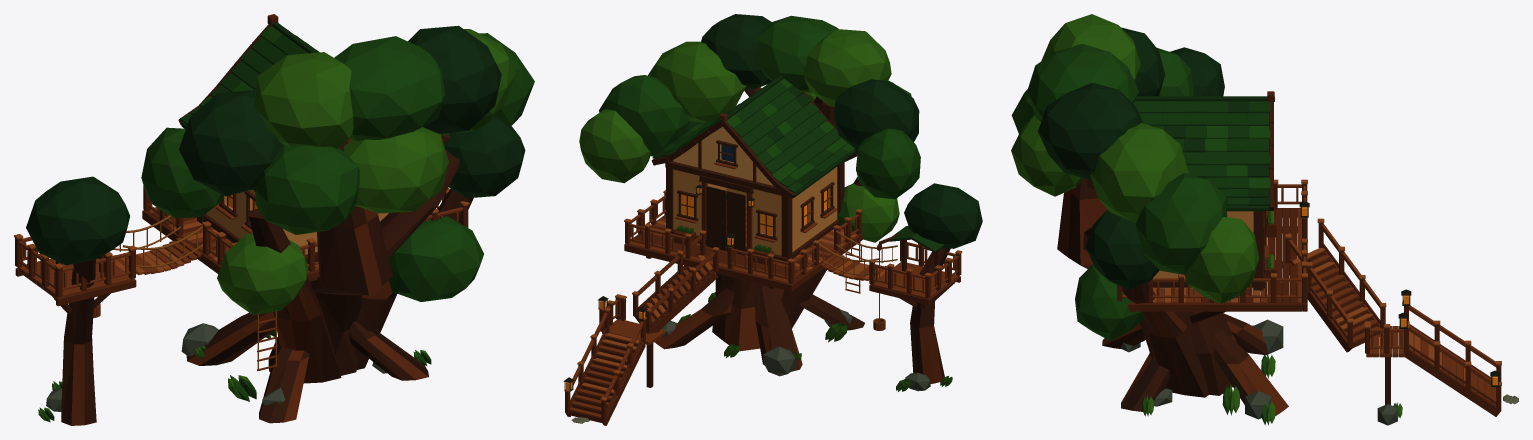
The model's file is treehouse-visual.obj.
The picture shows the model from 3 angles, left to right: view 1: azimuth 30°, elevation 25°; view 2: azimuth 150°, elevation 25°; view 3: azimuth 270°, elevation 25°; orthographic projection. The views are drawn at different scales.
Visible parts, largest first — view 1: Canopy, Oak, Lookout, Roof, GroundDetails, Cabin, Bridge, Railings, Deck, Ladder; view 2: Canopy, Roof, Stairs, Cabin, Oak, Lookout, Deck, Railings, GroundDetails, Bridge, HouseDoorLeaf_L_Panel, HouseDoorLeaf_R_Panel (+1 smaller); view 3: Canopy, Oak, Stairs, Roof, Deck, GroundDetails, Railings, Cabin, Interior.
Part boxes in pixels (bbox=[...]): Canopy: bbox=[26, 25, 534, 315]; Oak: bbox=[186, 138, 473, 423]; Lookout: bbox=[14, 234, 136, 425]; Roof: bbox=[178, 14, 449, 143]; GroundDetails: bbox=[38, 323, 431, 422]; Cabin: bbox=[197, 189, 430, 263]; Bridge: bbox=[111, 215, 202, 275]; Railings: bbox=[143, 185, 469, 271]; Deck: bbox=[142, 207, 319, 281]; Ladder: bbox=[257, 311, 277, 370]; Canopy: bbox=[579, 14, 982, 248]; Roof: bbox=[651, 76, 857, 198]; Stairs: bbox=[563, 230, 735, 425]; Cabin: bbox=[665, 160, 844, 265]; Oak: bbox=[654, 87, 864, 373]; Lookout: bbox=[868, 226, 962, 383]; Deck: bbox=[624, 204, 863, 291]; Railings: bbox=[624, 190, 862, 284]; GroundDetails: bbox=[571, 292, 952, 423]; Bridge: bbox=[819, 230, 897, 280]; HouseDoorLeaf_L_Panel: bbox=[707, 189, 723, 248]; HouseDoorLeaf_R_Panel: bbox=[727, 193, 743, 250]; Canopy: bbox=[1011, 14, 1259, 340]; Oak: bbox=[1057, 178, 1288, 416]; Stairs: bbox=[1285, 201, 1501, 416]; Roof: bbox=[1133, 91, 1274, 211]; Deck: bbox=[1126, 208, 1307, 323]; GroundDetails: bbox=[1120, 319, 1518, 425]; Railings: bbox=[1117, 179, 1307, 302]; Cabin: bbox=[1153, 211, 1268, 290]; Interior: bbox=[1264, 211, 1276, 278].
Size of the model in its own units: 55.73 by 39.89 by 54.92.
